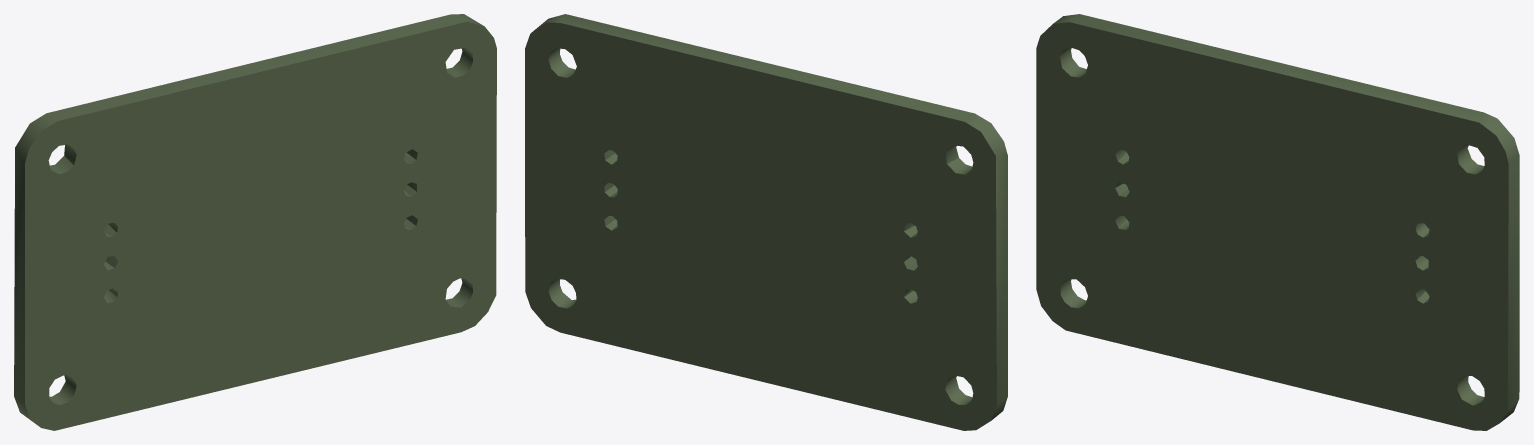
The model's file is link3_bic30_rev02_fr4.obj.
3 views of the same model, side by side, from view 1: azimuth 30°, elevation 25°; view 2: azimuth 150°, elevation 25°; view 3: azimuth 330°, elevation 25° (orthographic).
Bounding box in the file's own units: 0.0375 × 0.0235 × 0.00151.
